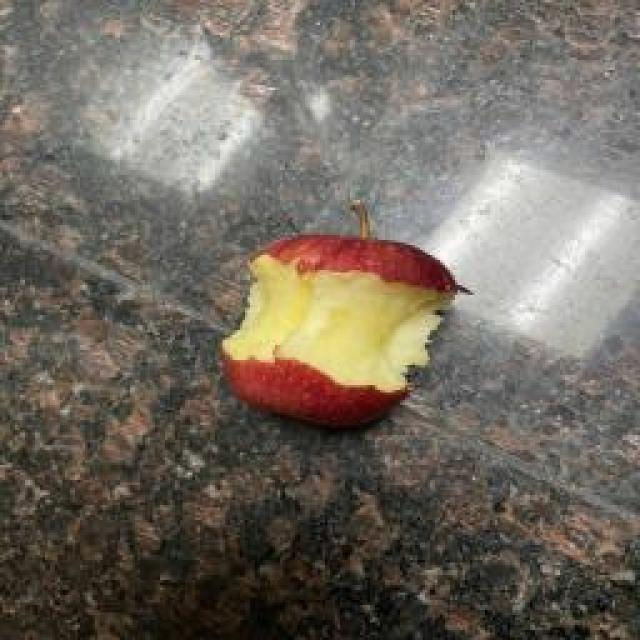Apple: (222, 235, 465, 427)
